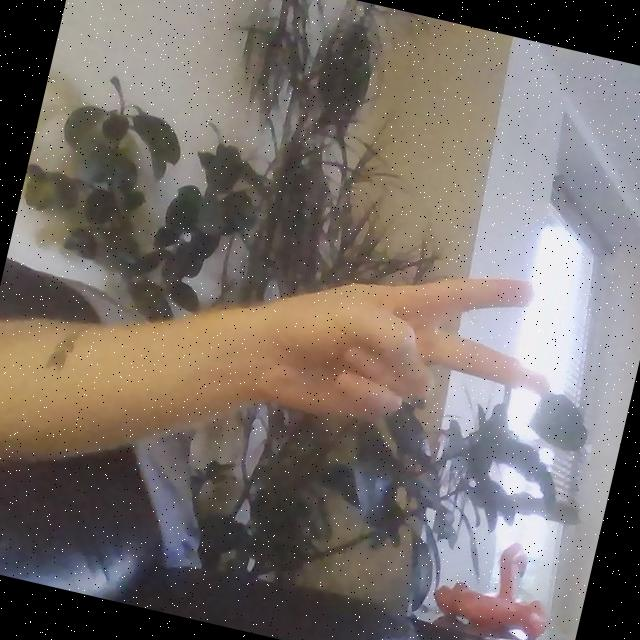scissors: (235, 224, 554, 472)
